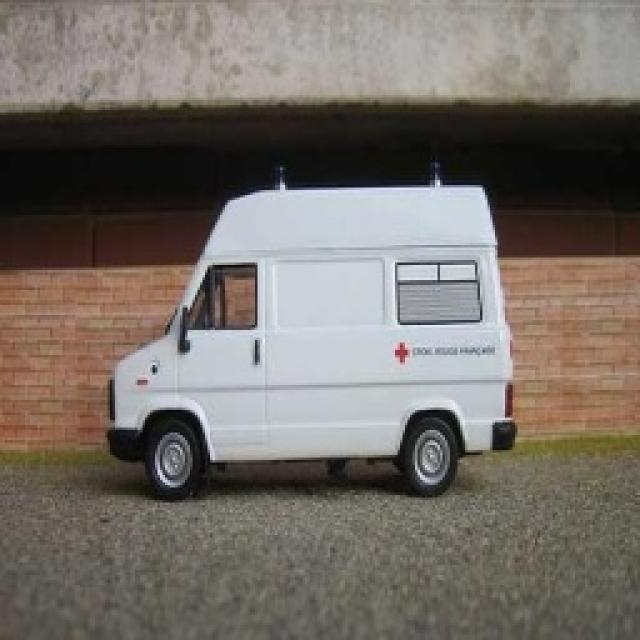emergency-vehicle: (45, 190, 579, 564)
